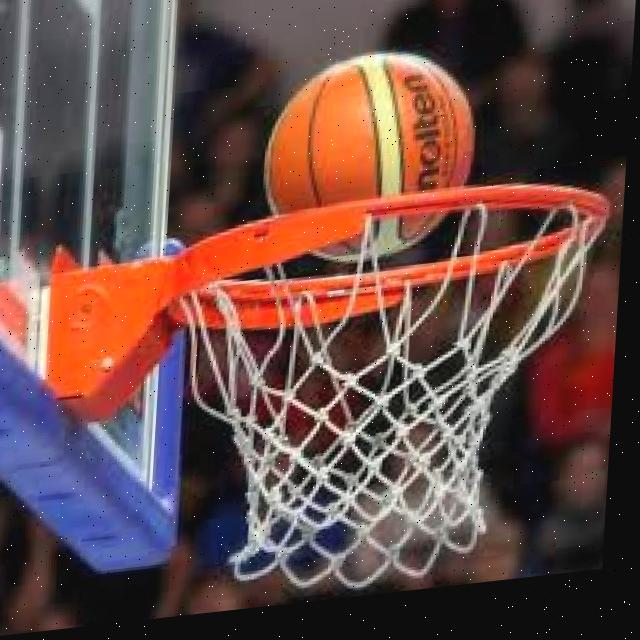basketball: (260, 41, 481, 272)
hoop: (156, 169, 610, 610)
